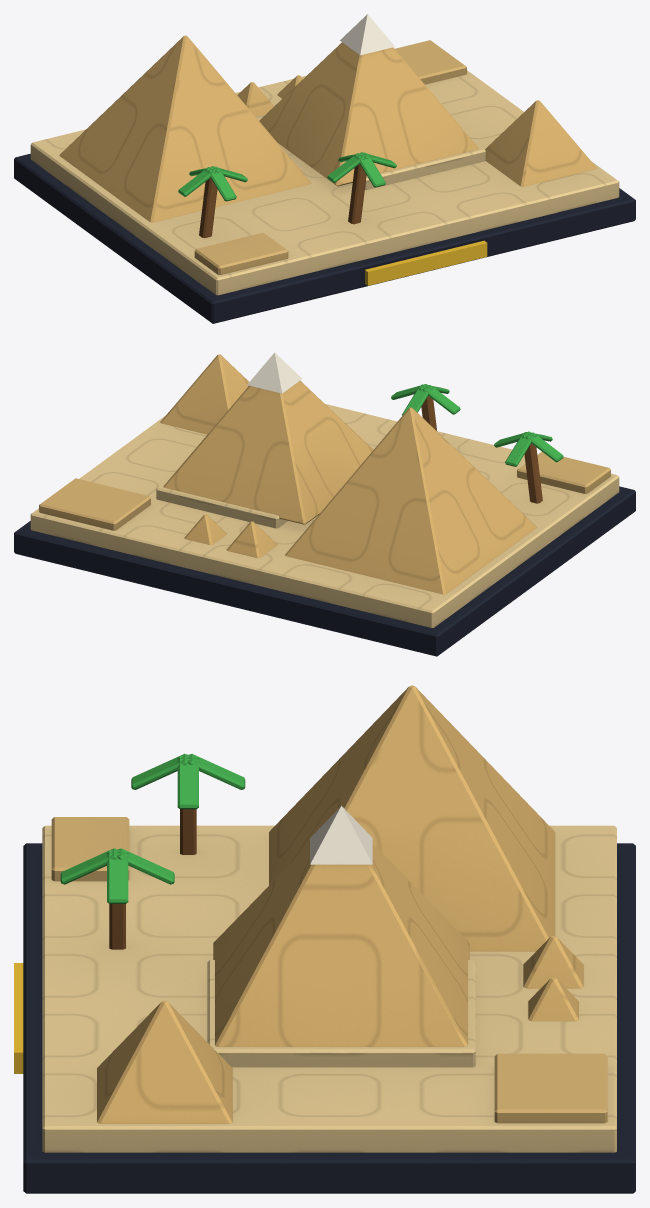
Rendered from GizaPyramids.fbx.
3 renders of one model, top to bottom at view 1: azimuth 30°, elevation 25°; view 2: azimuth 150°, elevation 25°; view 3: azimuth 270°, elevation 25°, orthographic. The views are drawn at different scales.
Parts seen in each view (by area): view 1: Art_GizaPyramids; view 2: Art_GizaPyramids; view 3: Art_GizaPyramids.
Part boxes in pixels (left/top/right/bottom): Art_GizaPyramids: left=14, top=14, right=635, bottom=323; Art_GizaPyramids: left=14, top=352, right=635, bottom=656; Art_GizaPyramids: left=14, top=685, right=635, bottom=1193.
Bounding box in the file's own units: 3.2 × 1.24 × 2.64.
